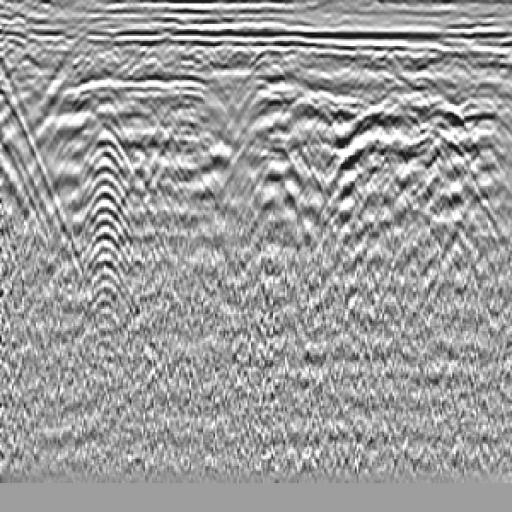metalic: (101, 55, 247, 131)
